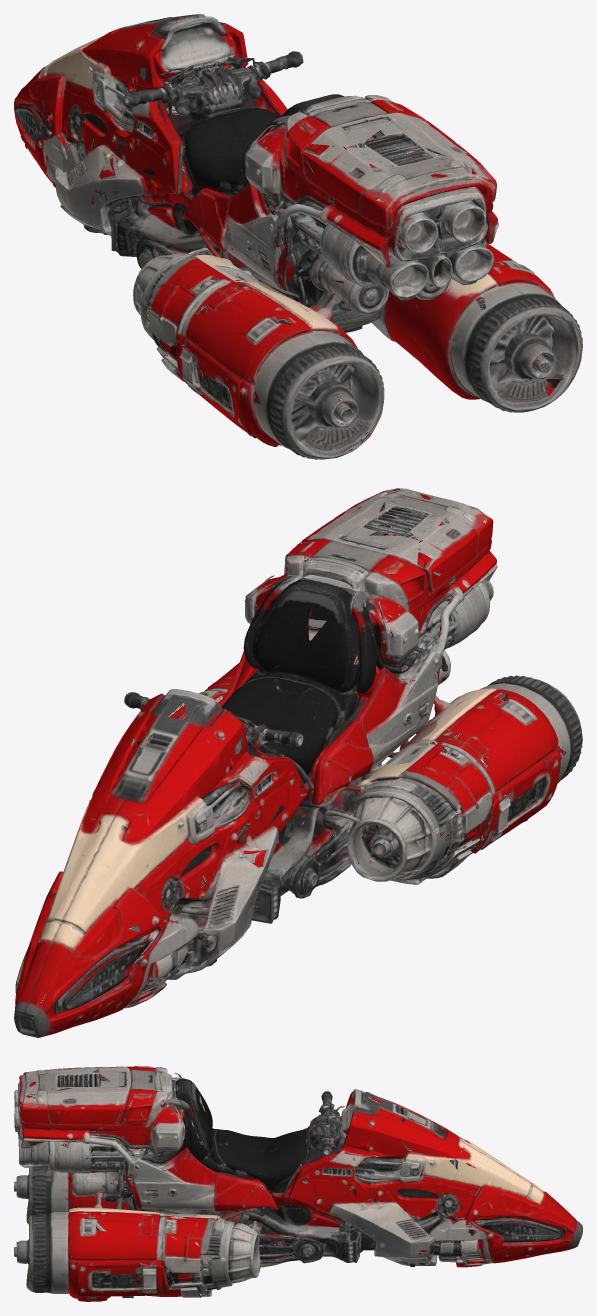
Rendered from camp_red_spaceship.glb.
3 views of the same model, one above another, from view 1: azimuth 30°, elevation 25°; view 2: azimuth 150°, elevation 25°; view 3: azimuth 270°, elevation 25° (orthographic). The views are drawn at different scales.
Visible parts, largest first — view 1: RedSpaceship; view 2: RedSpaceship; view 3: RedSpaceship.
Boxes of the visible parts, x1,y1,x2,y2 form: RedSpaceship: [14, 14, 582, 459]; RedSpaceship: [14, 488, 582, 1037]; RedSpaceship: [14, 1066, 582, 1301].
Bounding box in the file's own units: 2.01 × 1.64 × 4.56.
1 material, 1 textured.
